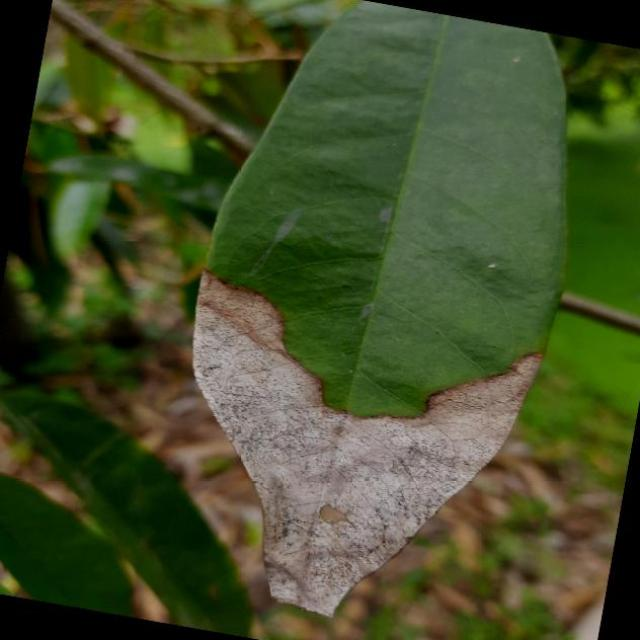Leaf Blight: (139, 0, 612, 640)
